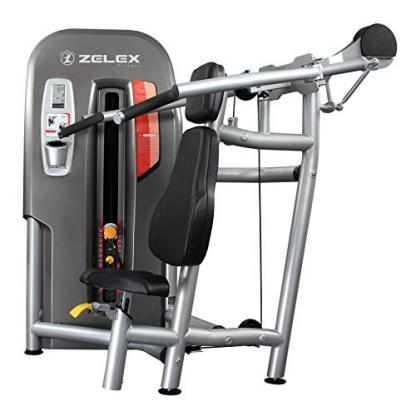shoulder press machine: (20, 6, 408, 399)
